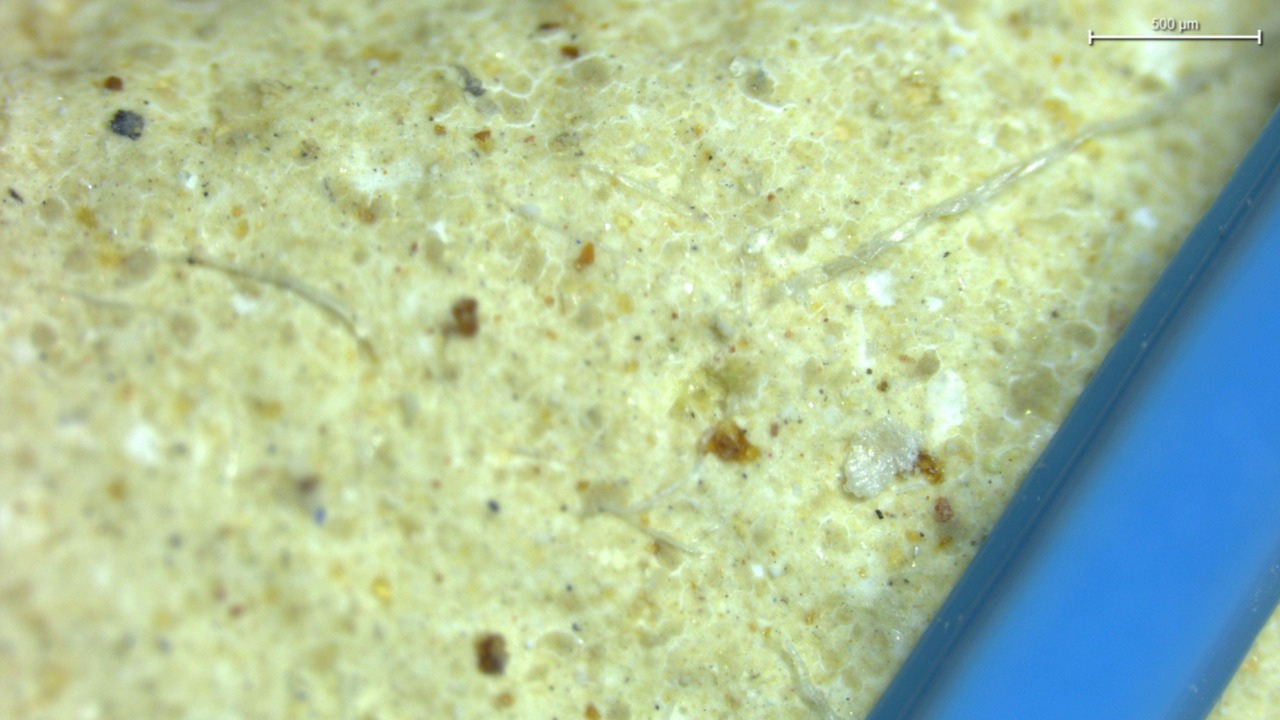microplastic_fragment: (844, 419, 919, 497)
